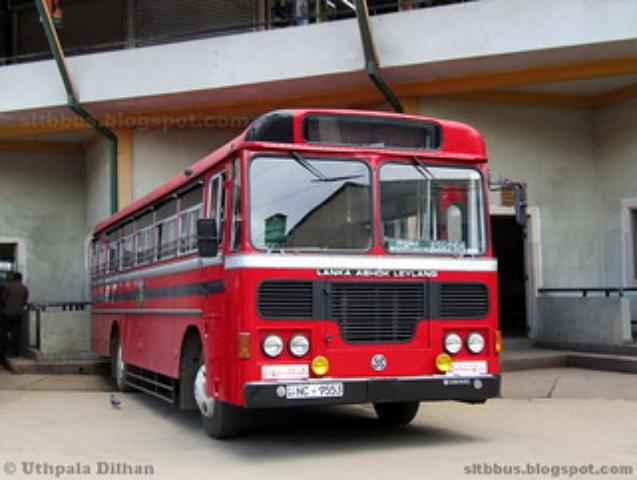bus: (92, 108, 502, 438)
